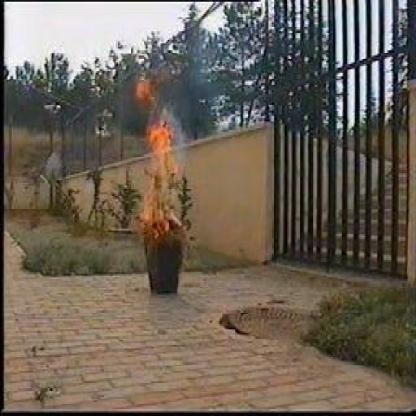foggia-v2-map80-epoch100 - v1 4323: (128, 71, 174, 244)
